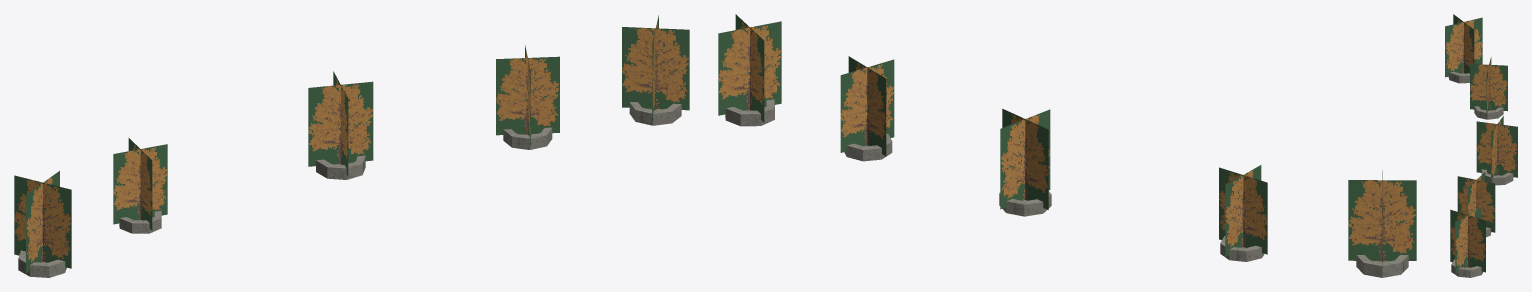
File: procgen-procpain-tree-park-large-x0zm3.obj
3 views of the same model, side by side, from view 1: azimuth 30°, elevation 25°; view 2: azimuth 150°, elevation 25°; view 3: azimuth 270°, elevation 25° (orthographic). The views are drawn at different scales.
Bounding box in the file's own units: 60.67 × 7.55 × 8.91.
